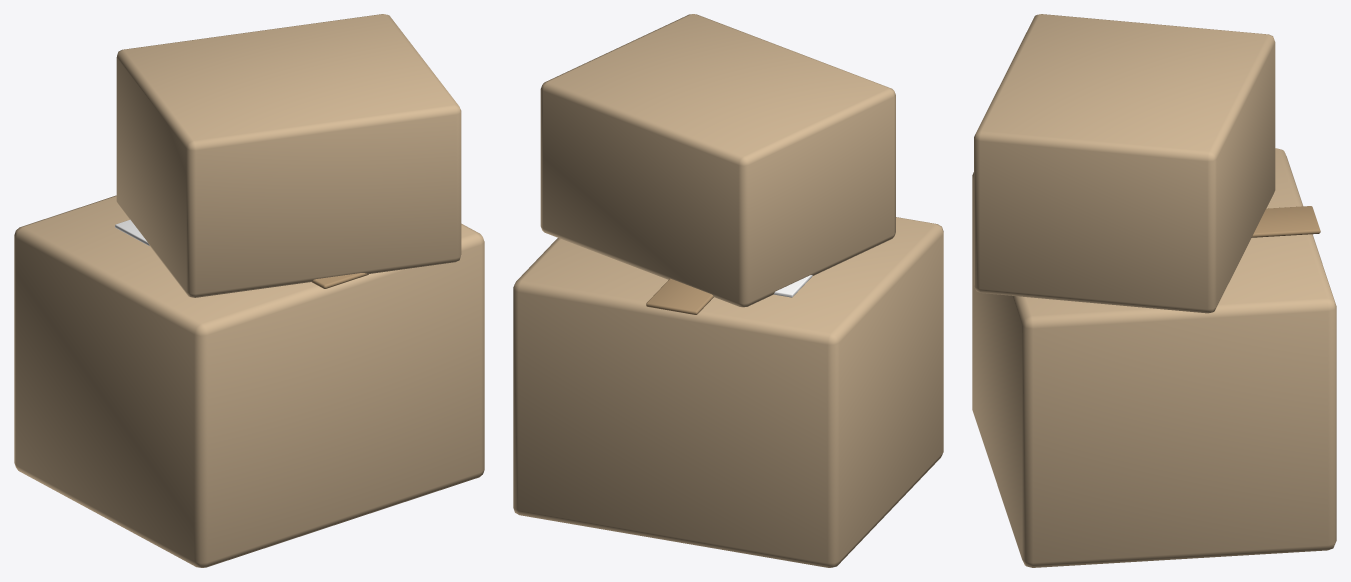
The model's file is Indo_Paket_Boxes.fbx.
3 views of the same model, side by side, from view 1: azimuth 30°, elevation 25°; view 2: azimuth 150°, elevation 25°; view 3: azimuth 270°, elevation 25° (orthographic). The views are drawn at different scales.
Parts seen in each view (by area): view 1: Indo_Paket_Boxes; view 2: Indo_Paket_Boxes; view 3: Indo_Paket_Boxes.
Boxes of the visible parts, x1,y1,x2,y2 form: Indo_Paket_Boxes: (14,14,484,567); Indo_Paket_Boxes: (513,14,943,567); Indo_Paket_Boxes: (972,14,1336,567).
Size of the model in its own units: 41.81 by 46 by 36.7.
